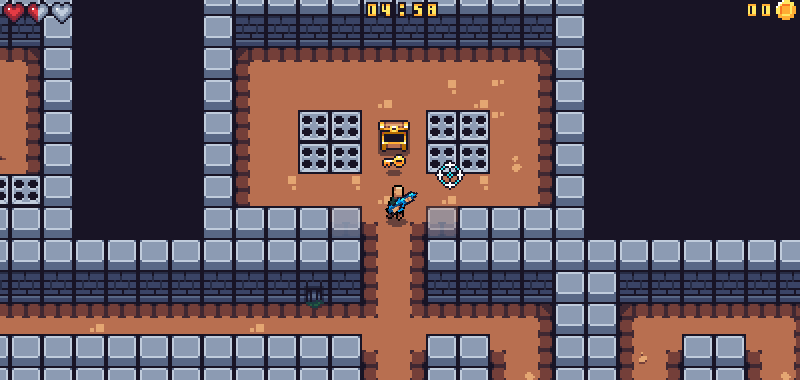key: (382, 154, 406, 170)
trap_off: (297, 110, 363, 172), (428, 111, 489, 171)
treasury_open: (375, 117, 414, 155)
